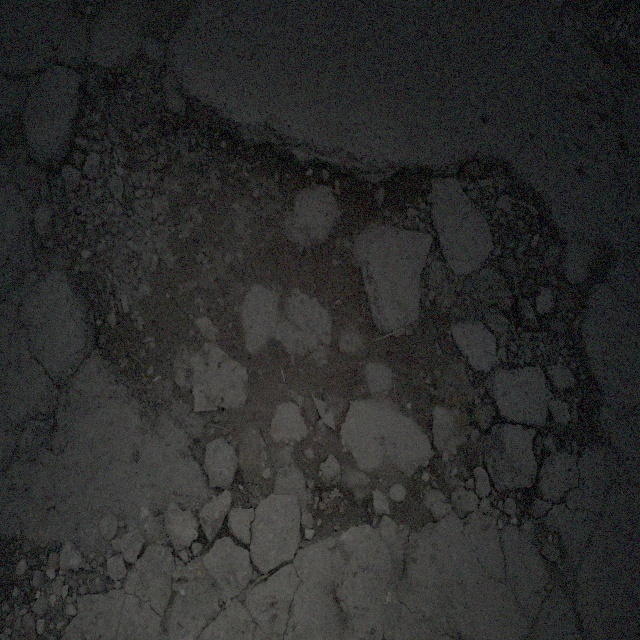pothole: (49, 47, 606, 554)
